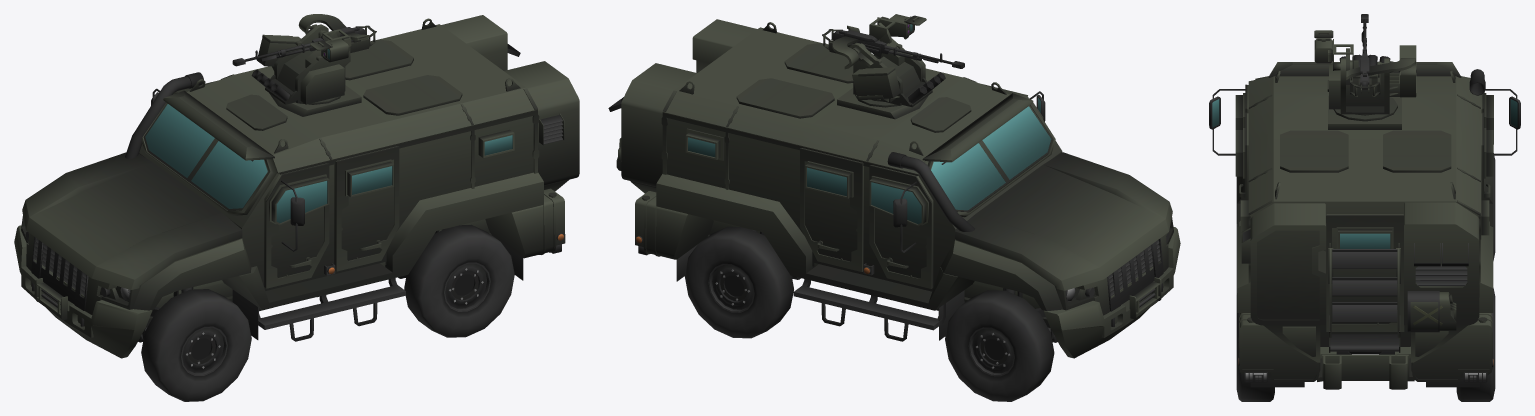
File: typhoon-53949_mrap.glb
3 views of the same model, side by side, from view 1: azimuth 30°, elevation 25°; view 2: azimuth 150°, elevation 25°; view 3: azimuth 270°, elevation 25° (orthographic). The views are drawn at different scales.
Visible parts, largest first — view 1: Hull, WheelsFront, WheelsBack, TurretBase, TurretKord; view 2: Hull, WheelsFront, WheelsBack, TurretBase, TurretKord; view 3: Hull, TurretBase, TurretKord, WheelsBack, WheelsFront.
Part boxes in pixels (x1,y1,x2,y2): Hull: (14, 15, 579, 358); WheelsFront: (141, 289, 251, 401); WheelsBack: (404, 224, 514, 337); TurretBase: (251, 24, 350, 104); TurretKord: (232, 14, 376, 66); Hull: (608, 19, 1180, 358); WheelsFront: (945, 272, 1145, 401); WheelsBack: (684, 226, 793, 338); TurretBase: (849, 22, 945, 107); TurretKord: (822, 14, 964, 69); Hull: (1209, 62, 1520, 389); TurretBase: (1329, 45, 1416, 115); TurretKord: (1314, 14, 1415, 96); WheelsBack: (1236, 288, 1495, 401); WheelsFront: (1236, 153, 1495, 260).
Bounding box in the file's own units: 0.2417 × 0.1357 × 0.1241.
1 material, 1 textured.
